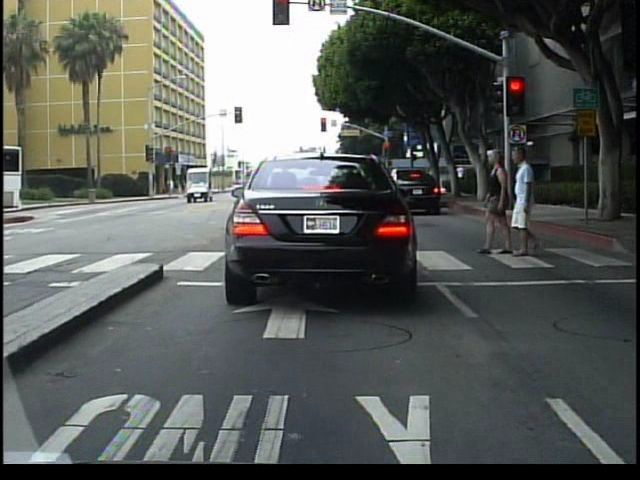person: (510, 139, 553, 262), (477, 149, 514, 259)
